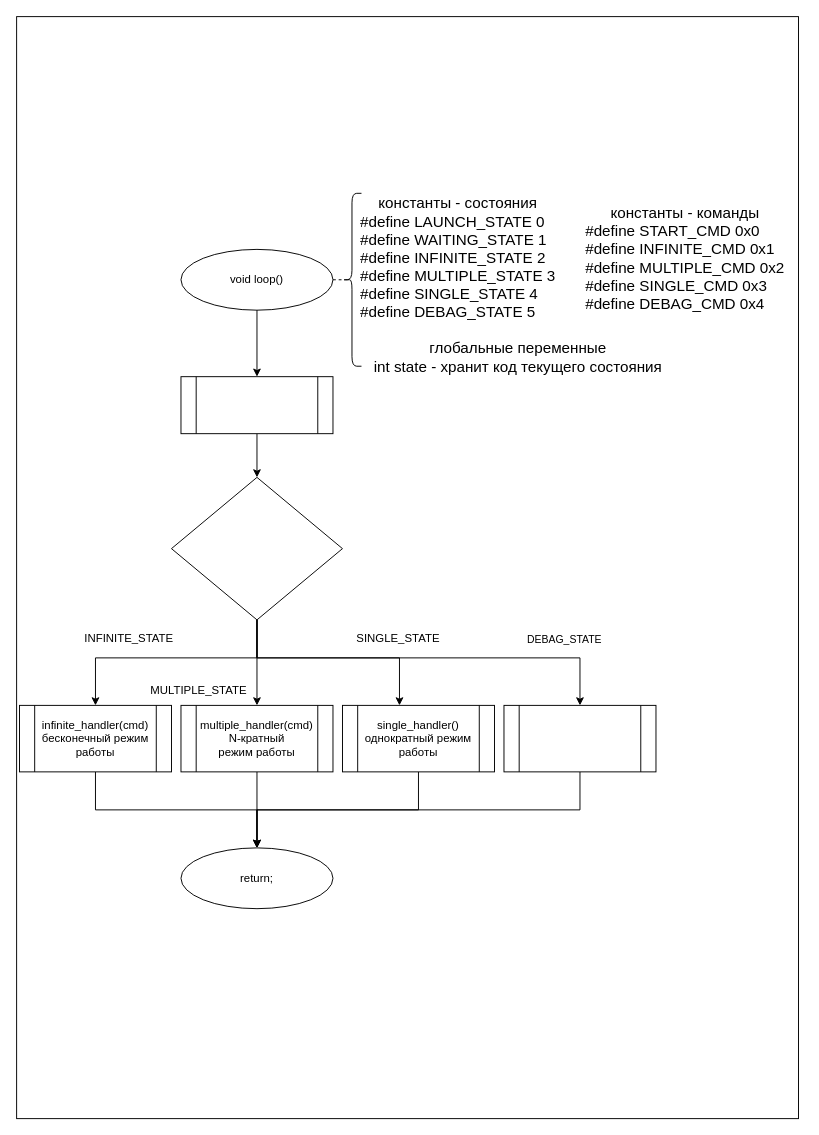
Image size: 819x1135. Some labels were removed from this diagram. The shapes that lost their labels are listed below. From the top down, each one's centre as x and y in pixels, then its label:
the point at 256,405: int cmd = get_command(); Считывает команду с Raspberry Pi
the point at 256,548: state
the point at 579,738: debag_handler() меню отладки
